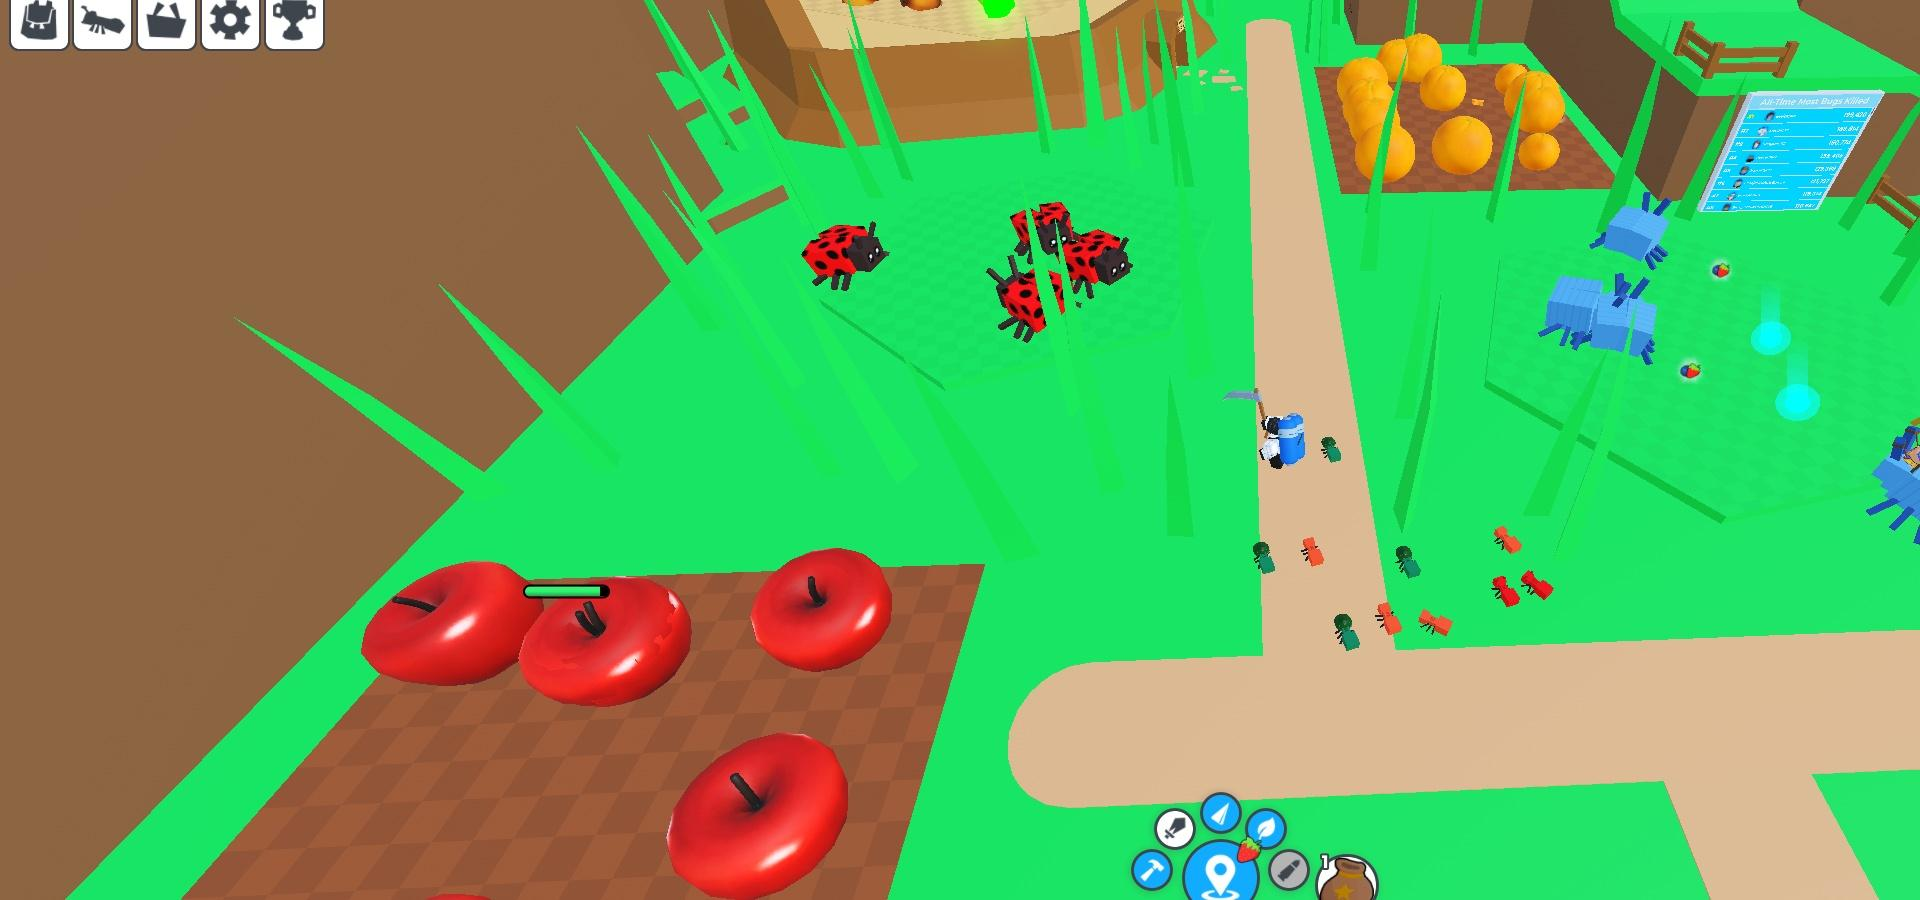Enemy: (978, 260, 1079, 346), (1584, 189, 1690, 266), (795, 216, 889, 293), (1596, 296, 1676, 364), (1065, 222, 1142, 292), (1544, 270, 1609, 346), (1005, 204, 1076, 256)
